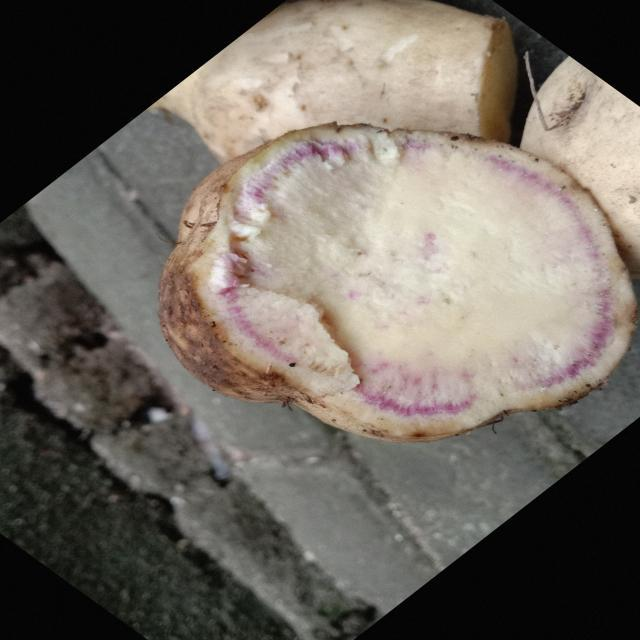Healthy Sweet Potato: (160, 124, 637, 441)
